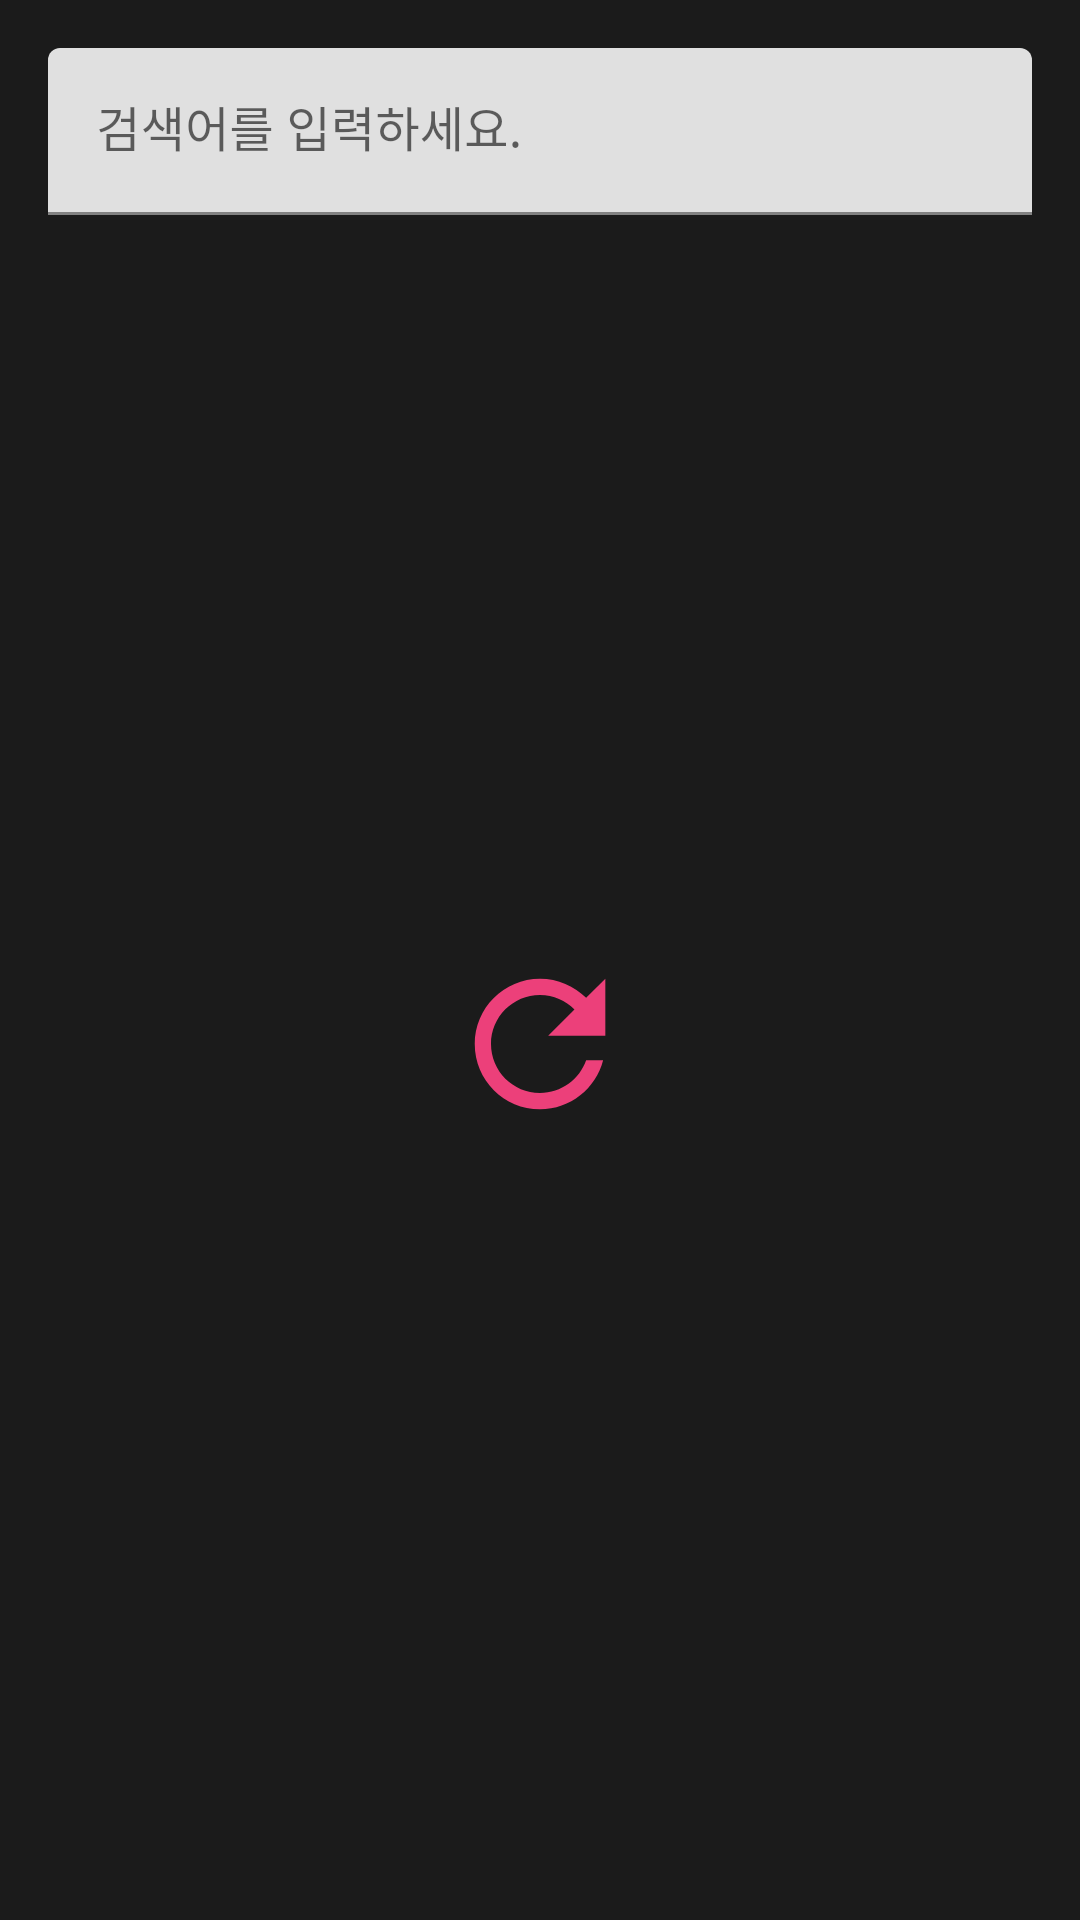

Where to tap for icons on this 1080x1920 app screen, as point (x, y):
refresh: point (540, 1044)
